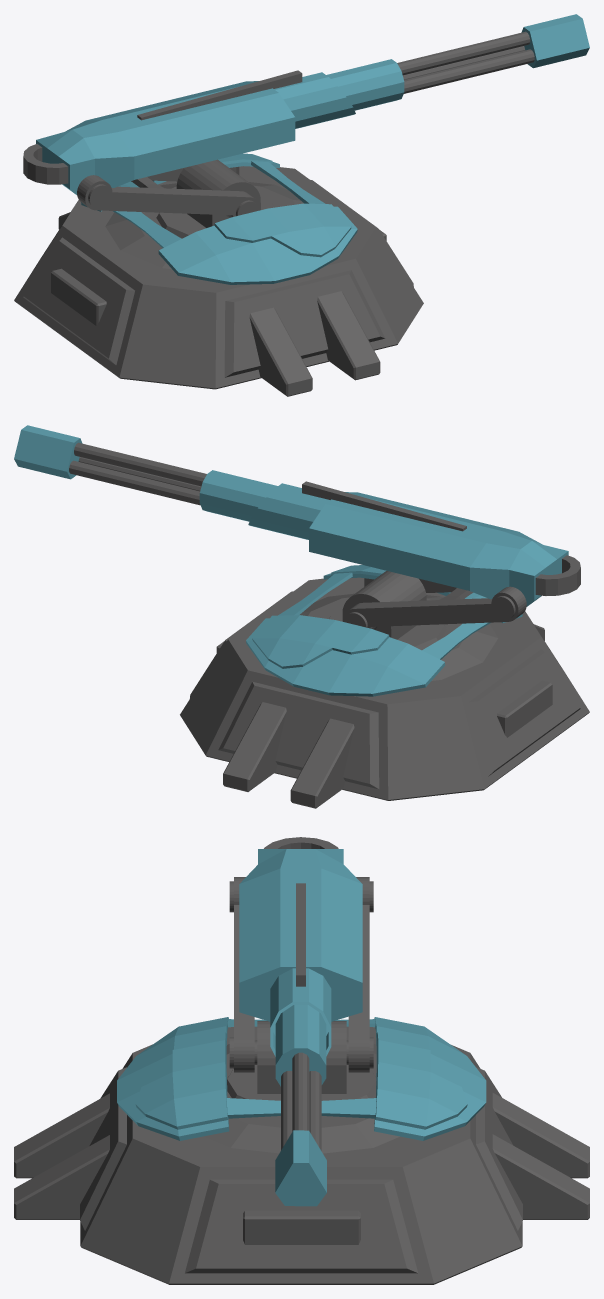
Rendered from Turret3Animation.fbx.
The picture shows the model from 3 angles, top to bottom: view 1: azimuth 30°, elevation 25°; view 2: azimuth 150°, elevation 25°; view 3: azimuth 270°, elevation 25°; orthographic projection. The views are drawn at different scales.
Visible parts, largest first — view 1: Cube.001, Cube.025, Cube.024, Cube.009, Cube.027; view 2: Cube.001, Cube.025, Cube.024, Cube.009, Cube.027; view 3: Cube.001, Cube.024, Cube.025, Cube.009, Cube.027.
Boxes of the visible parts, x1=… form: Cube.001: x1=14, y1=166, x2=423, y2=396; Cube.025: x1=23, y1=59, x2=404, y2=195; Cube.024: x1=81, y1=153, x2=357, y2=284; Cube.009: x1=397, y1=14, x2=589, y2=93; Cube.027: x1=77, y1=168, x2=259, y2=217; Cube.001: x1=180, y1=577, x2=589, y2=808; Cube.025: x1=199, y1=470, x2=580, y2=606; Cube.024: x1=246, y1=565, x2=522, y2=696; Cube.009: x1=14, y1=425, x2=206, y2=505; Cube.027: x1=343, y1=578, x2=526, y2=629; Cube.001: x1=14, y1=1026, x2=589, y2=1284; Cube.024: x1=117, y1=1017, x2=486, y2=1153; Cube.025: x1=239, y1=837, x2=362, y2=1086; Cube.009: x1=275, y1=1052, x2=326, y2=1206; Cube.027: x1=229, y1=877, x2=373, y2=1072.
Size of the model in its own units: 276 by 101 by 199.
